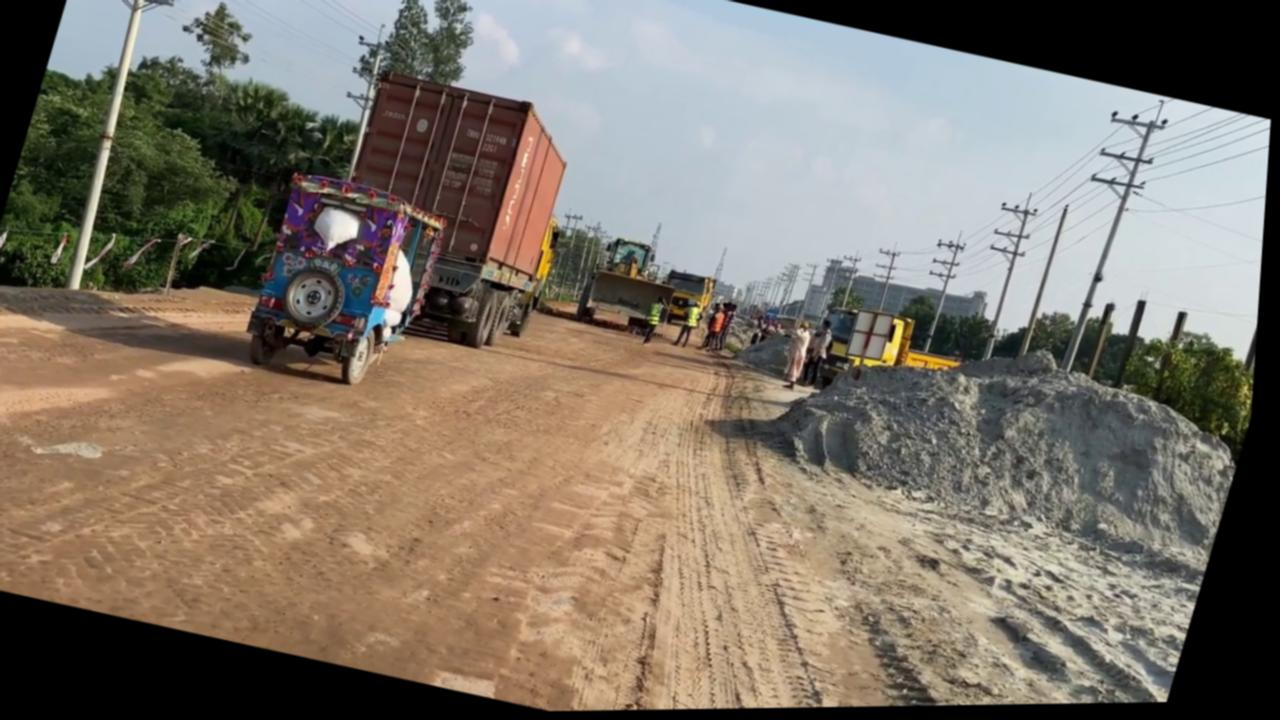Muddy road: (0, 153, 1263, 720)
Pole: (15, 0, 199, 293), (1039, 94, 1174, 381)
Tree: (316, 70, 599, 343), (237, 165, 459, 398), (811, 299, 979, 419), (576, 233, 692, 343), (655, 267, 724, 333)
